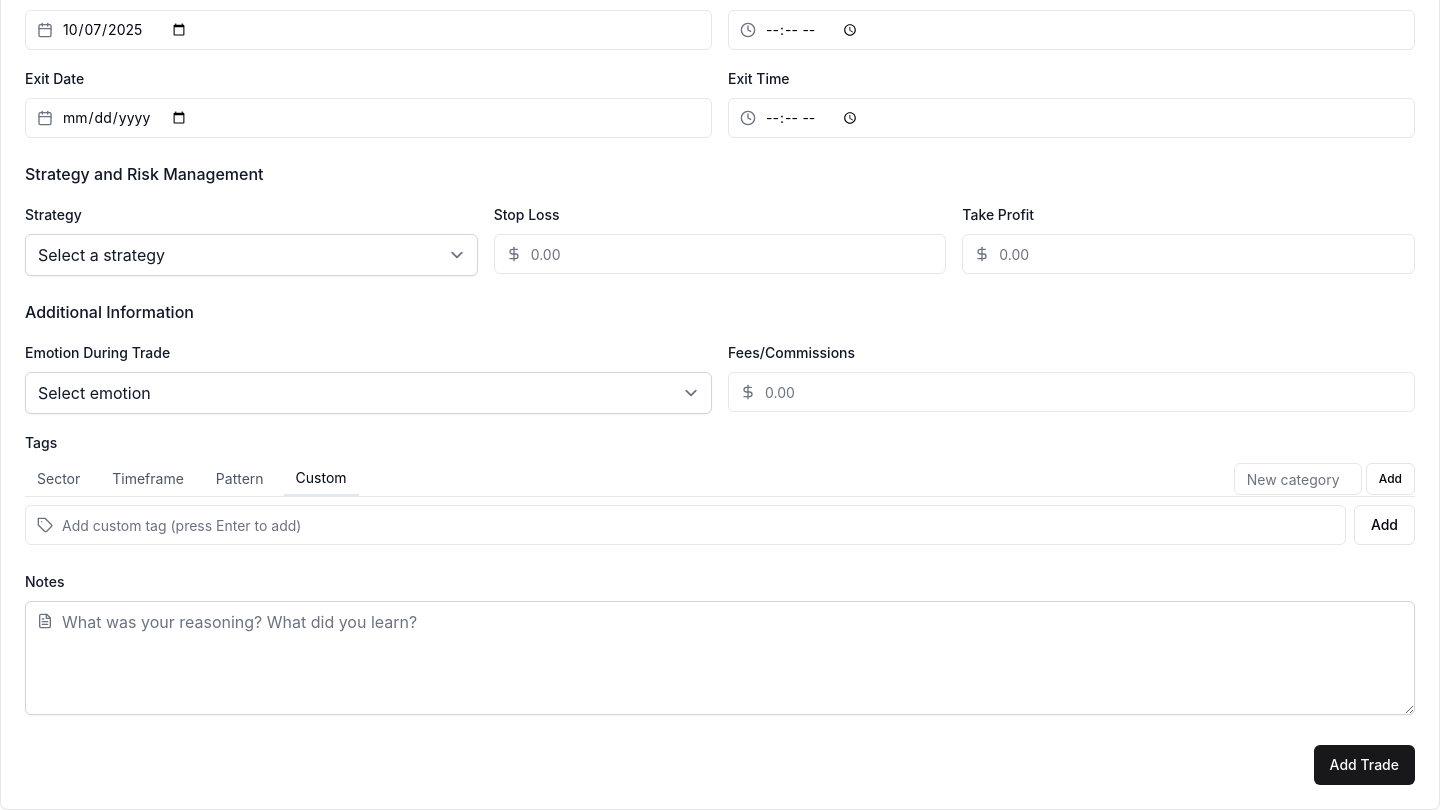
Test: TradeForm Component › switches between tag categories
(page scrolled)
expect the field with placeholder "Add custom tag (press Enter to add)" is shown: met, box x1=25 y1=505 x2=1346 y2=545
// Click on the sector category
Step 1. Click the button "Sector" → [59, 479], box x1=25 y1=462 x2=92 y2=496
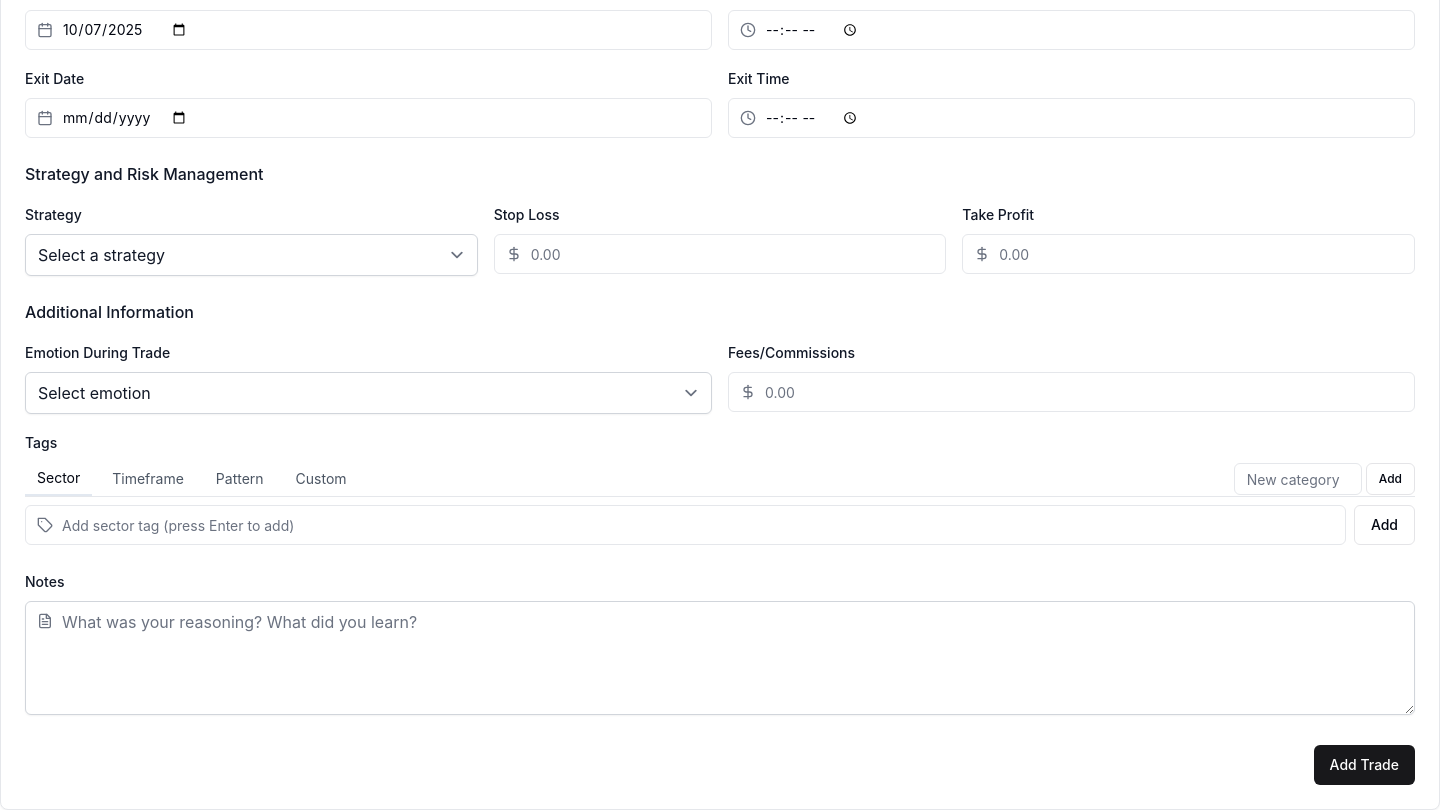
expect the field with placeholder "Add sector tag (press Enter to add)" is shown: met, box x1=25 y1=505 x2=1346 y2=545
